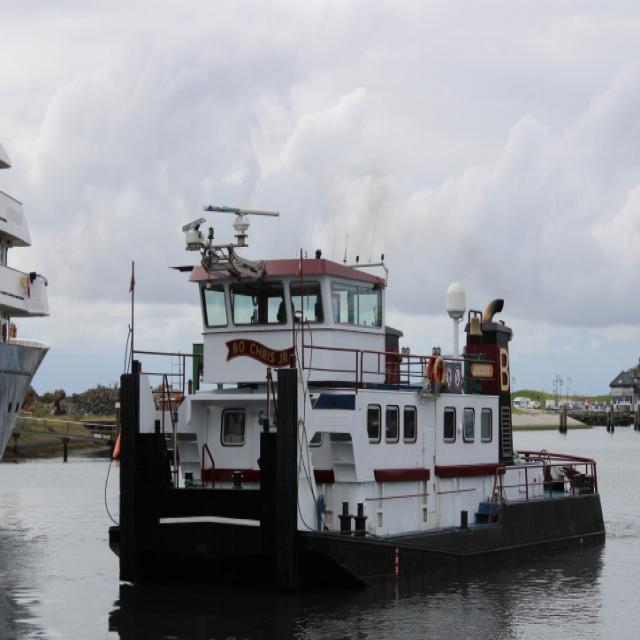tugboat: (109, 200, 613, 584)
